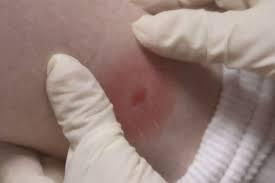Tick: (91, 40, 181, 142)
